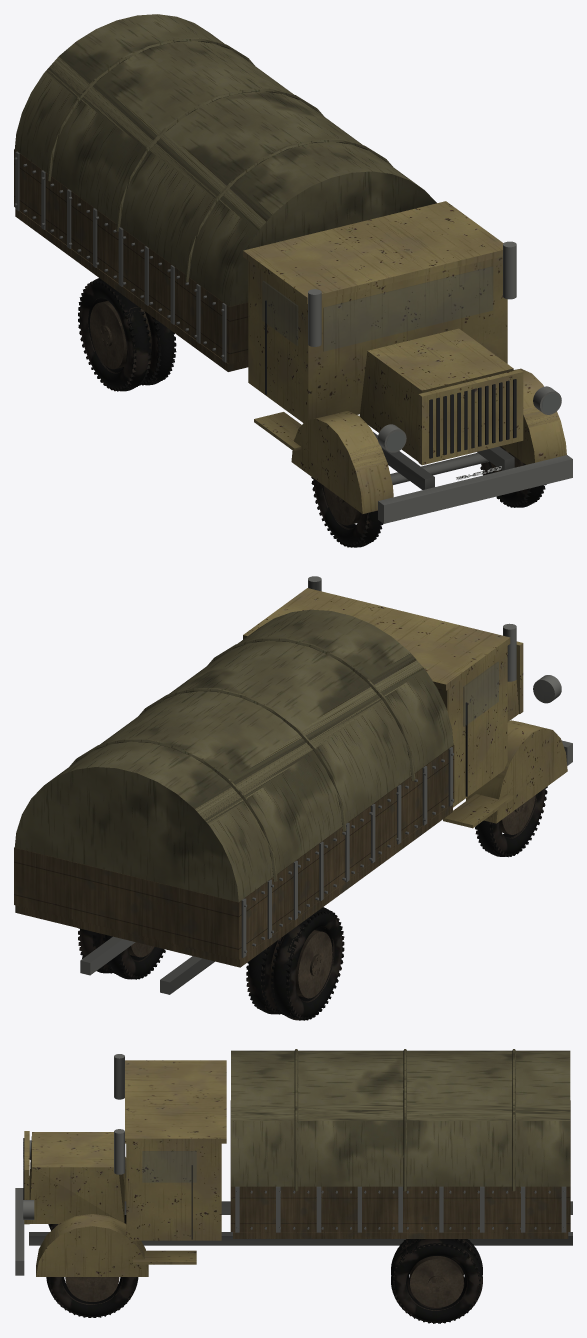
The model's file is opel_blitz.glb.
3 views of the same model, one above another, from view 1: azimuth 30°, elevation 25°; view 2: azimuth 150°, elevation 25°; view 3: azimuth 270°, elevation 25° (orthographic). The views are drawn at different scales.
Parts seen in each view (by area): view 1: Body, Axle_Rear, Axle_Front; view 2: Body, Axle_Rear, Axle_Front; view 3: Body, Axle_Rear, Axle_Front.
Boxes of the visible parts, box(x1,y1,x2,y2) form: Body: box(14, 14, 572, 523); Axle_Rear: box(78, 278, 176, 391); Axle_Front: box(311, 446, 546, 547); Body: box(14, 576, 572, 994); Axle_Rear: box(78, 907, 344, 1020); Axle_Front: box(475, 786, 547, 857); Body: box(15, 1049, 572, 1276); Axle_Rear: box(391, 1239, 482, 1323); Axle_Front: box(46, 1215, 138, 1317).
Bounding box in the file's own units: 2.33 × 2.74 × 6.16.
Materials: 9 (6 with a texture image).
